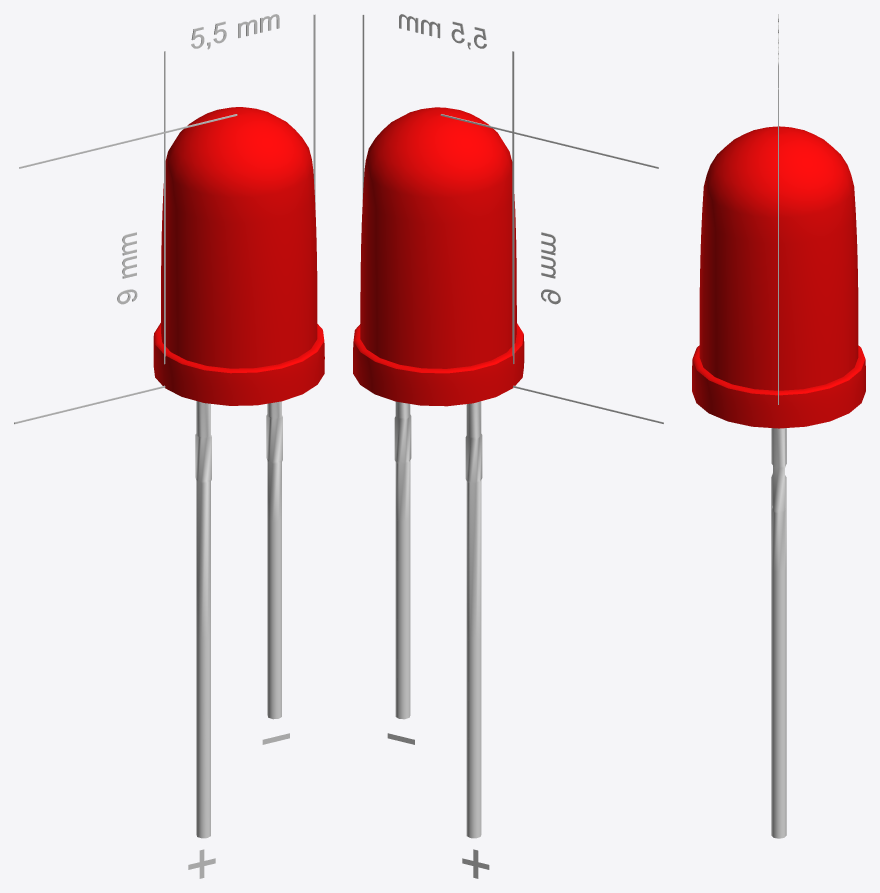
File: led.fbx
3 renders of one model, left to right at view 1: azimuth 30°, elevation 25°; view 2: azimuth 150°, elevation 25°; view 3: azimuth 270°, elevation 25°, orthographic.
Parts seen in each view (by area): view 1: lamp, katod&anod, Text001, Box006; view 2: lamp, katod&anod, Box006, Text001; view 3: lamp, katod&anod.
Boxes of the visible parts, x1=… form: lamp: x1=153, y1=107, x2=324, y2=405; katod&anod: x1=195, y1=401, x2=282, y2=838; Text001: x1=191, y1=14, x2=279, y2=49; Box006: x1=164, y1=51, x2=165, y2=364; lamp: x1=353, y1=107, x2=524, y2=406; katod&anod: x1=394, y1=401, x2=482, y2=838; Box006: x1=512, y1=51, x2=514, y2=363; Text001: x1=399, y1=14, x2=486, y2=49; lamp: x1=692, y1=126, x2=865, y2=428; katod&anod: x1=771, y1=428, x2=786, y2=838.
Size of the model in its own units: 11.08 by 29.92 by 5.49.
